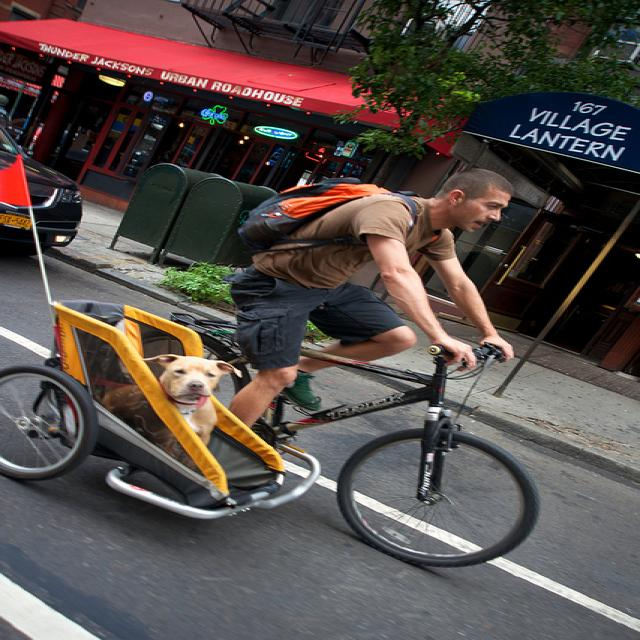Vehicle: (2, 119, 86, 257)
